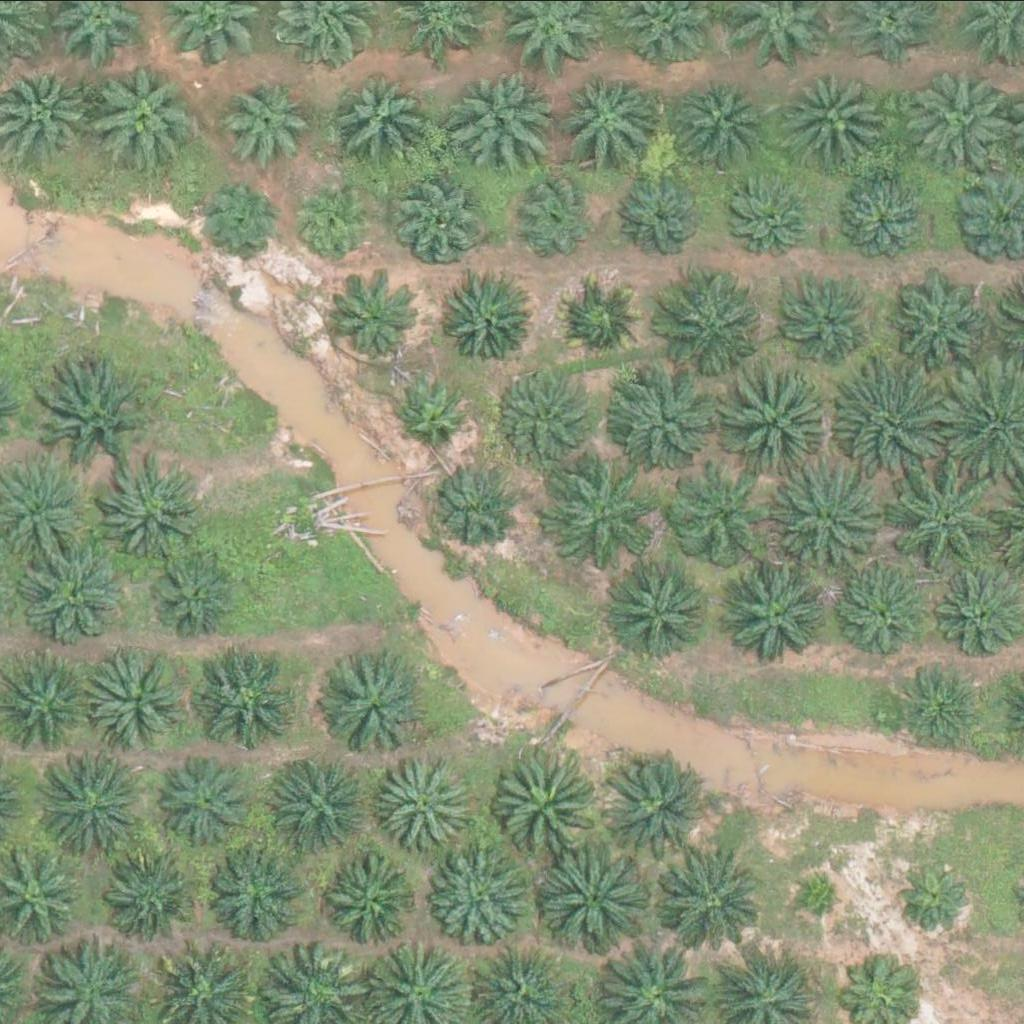Kelapa_Sawit: (832, 361, 945, 474), (714, 362, 827, 475), (599, 361, 712, 474), (774, 464, 887, 577), (539, 845, 652, 958), (656, 848, 769, 961), (39, 360, 152, 473), (904, 61, 1018, 173), (658, 266, 771, 378), (888, 458, 1001, 570), (491, 750, 604, 862), (599, 753, 712, 865), (34, 746, 147, 858), (556, 67, 657, 167), (896, 275, 997, 375), (556, 473, 657, 573), (668, 467, 769, 567), (822, 561, 923, 661), (730, 561, 831, 661), (604, 555, 705, 655), (328, 658, 429, 758), (377, 751, 478, 851), (322, 853, 423, 953), (430, 846, 531, 946), (217, 74, 318, 174), (100, 464, 201, 564), (17, 539, 118, 639), (86, 655, 187, 755), (337, 68, 437, 168), (453, 65, 553, 165), (790, 64, 890, 164), (835, 166, 935, 266), (491, 366, 591, 466), (279, 753, 379, 853), (97, 67, 197, 167), (196, 649, 296, 749), (155, 753, 255, 853), (200, 841, 300, 941), (96, 844, 196, 944), (673, 77, 761, 165), (294, 176, 382, 264), (512, 172, 600, 260), (624, 171, 712, 259), (729, 171, 817, 259), (432, 463, 520, 551), (395, 175, 483, 262), (336, 273, 424, 360), (441, 277, 529, 364), (887, 852, 975, 939), (559, 277, 647, 364), (780, 280, 868, 367), (890, 665, 978, 752), (195, 175, 283, 262), (148, 551, 236, 638), (398, 373, 474, 448), (802, 870, 852, 920)
